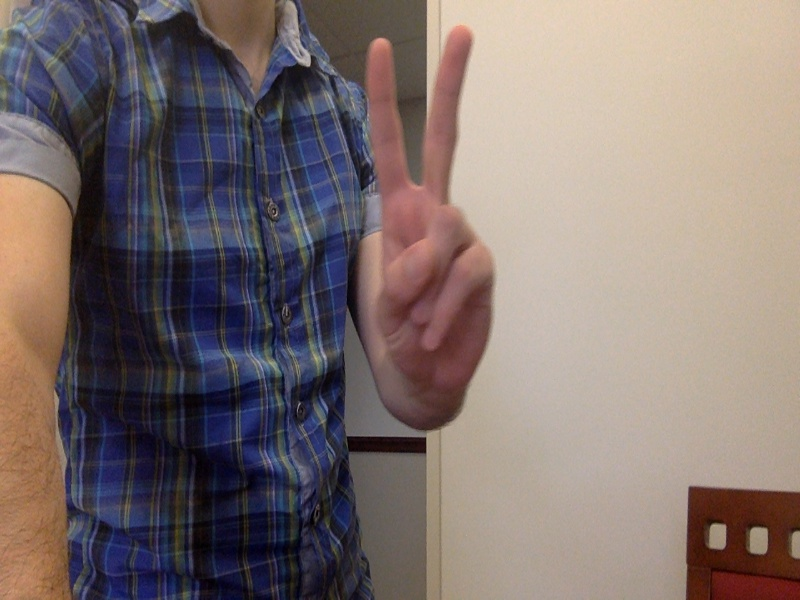2-hand: (365, 30, 498, 417)
